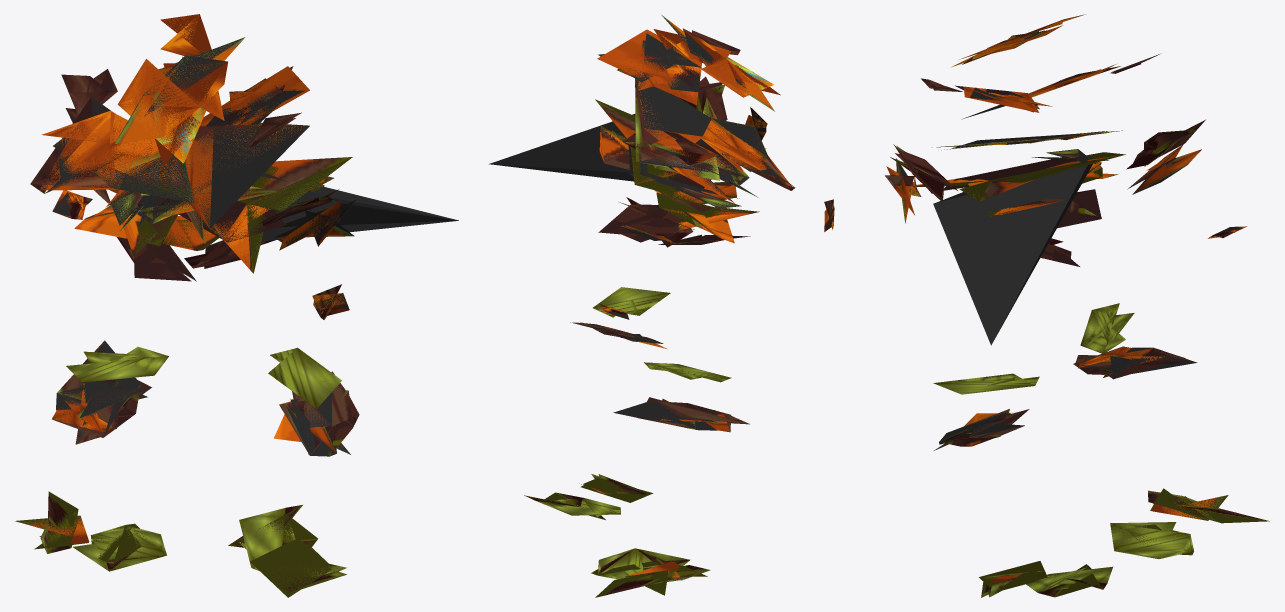
Rendered from serata.obj.
3 renders of one model, left to right at view 1: azimuth 30°, elevation 25°; view 2: azimuth 150°, elevation 25°; view 3: azimuth 270°, elevation 25°, orthographic. The views are drawn at different scales.
Visible parts, largest first — view 1: bone_27, bone_13, bone_12, bone_01, bone_04, bone_09, bone_00, bone_18, bone_11, bone_05, bone_10, bone_08 (+13 smaller); view 2: bone_12, bone_18, bone_00, bone_27, bone_13, bone_01, bone_04, bone_07, bone_06, bone_05, bone_24, bone_08 (+9 smaller); view 3: bone_00, bone_01, bone_05, bone_04, bone_06, bone_09, bone_03, bone_10, bone_11, bone_08, bone_15, bone_20 (+7 smaller).
Part boxes in pixels (box(x1,y1,x2,y2)): bone_27: box(115, 14, 245, 166); bone_13: box(30, 97, 194, 202); bone_12: box(106, 122, 309, 243); bone_01: box(111, 157, 352, 273); bone_04: box(52, 340, 151, 444); bone_09: box(274, 371, 359, 456); bone_00: box(224, 173, 458, 245); bone_18: box(200, 66, 309, 126); bone_11: box(250, 538, 346, 597); bone_05: box(73, 523, 166, 571); bone_10: box(228, 505, 317, 571); bone_08: box(268, 347, 341, 408); bone_12: box(623, 78, 766, 203); bone_18: box(597, 29, 701, 104); bone_00: box(489, 114, 648, 181); bone_27: box(653, 14, 780, 111); bone_13: box(695, 118, 795, 190); bone_01: box(595, 99, 741, 208); bone_04: box(613, 397, 749, 432); bone_07: box(598, 197, 693, 247); bone_06: box(595, 561, 710, 597); bone_05: box(591, 548, 690, 579); bone_24: box(656, 192, 734, 243); bone_08: box(593, 287, 670, 317); bone_00: box(933, 160, 1094, 345); bone_01: box(916, 149, 1125, 201); bone_05: box(1110, 522, 1193, 558); bone_04: box(1073, 346, 1197, 379); bone_06: box(1148, 488, 1269, 523); bone_09: box(934, 409, 1029, 450); bone_03: box(1080, 303, 1134, 353); bone_10: box(1026, 564, 1112, 597); bone_11: box(979, 561, 1047, 597); bone_08: box(933, 373, 1039, 394); bone_15: box(1126, 119, 1205, 169); bone_20: box(890, 144, 957, 201).
Bounding box in the file's own units: 1.51 × 2.12 × 1.59.
Materials: 49 (45 with a texture image).
